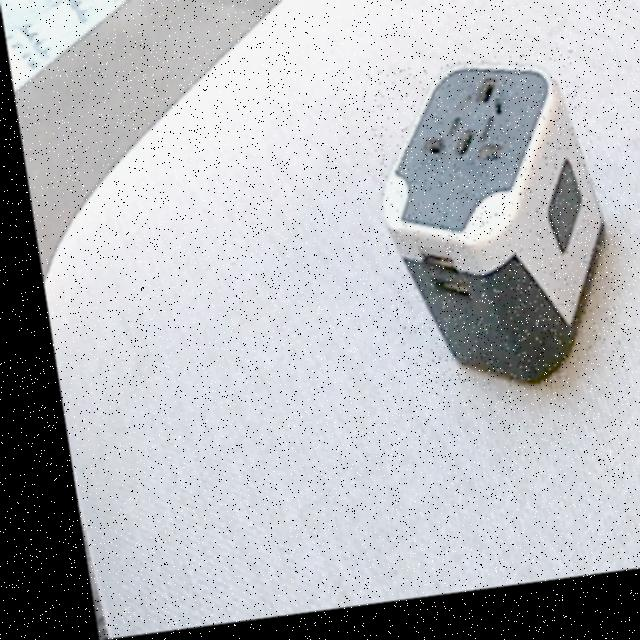adapter: (356, 61, 614, 410)
